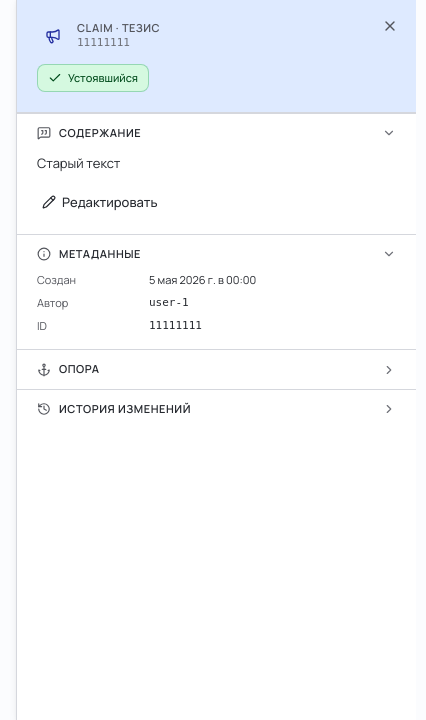
Test: NodeDetailsPanel › кнопка "Отмена" возвращает к режиму просмотра без изменений
This screenshot has width=426, height=720.
Click the button "Редактировать".
click(100, 202)  # box [29, 186, 171, 218]
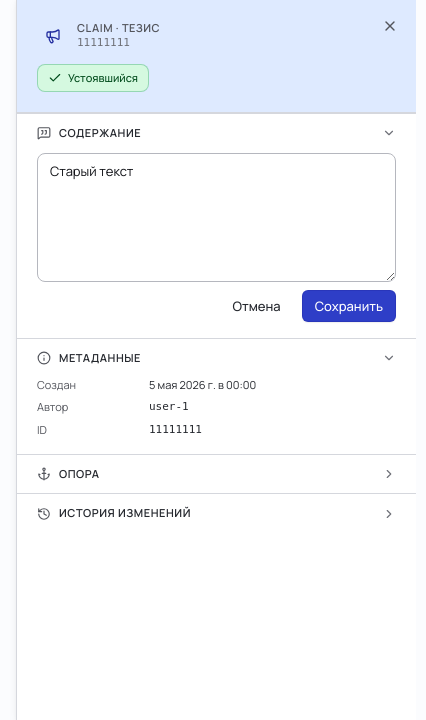
Replace the text in the text box named "Содержание узла" with "Не сохранится" at (216, 217), box [37, 153, 396, 282]
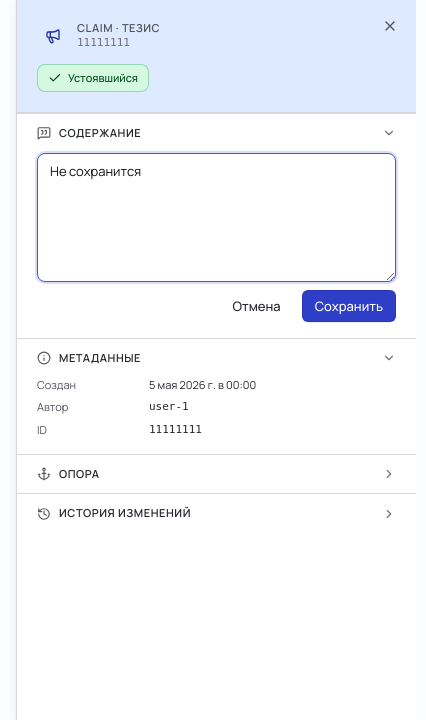
Click the button "Отмена".
click(257, 306)  # box [220, 290, 294, 322]
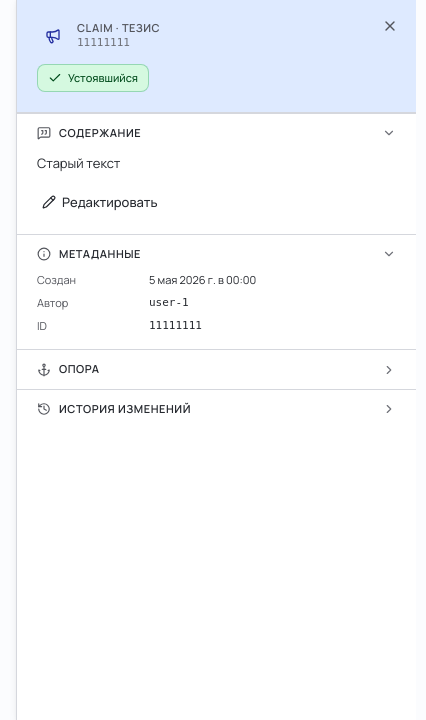
Expected: the text "Старый текст" is shown, [37, 154, 120, 172]
